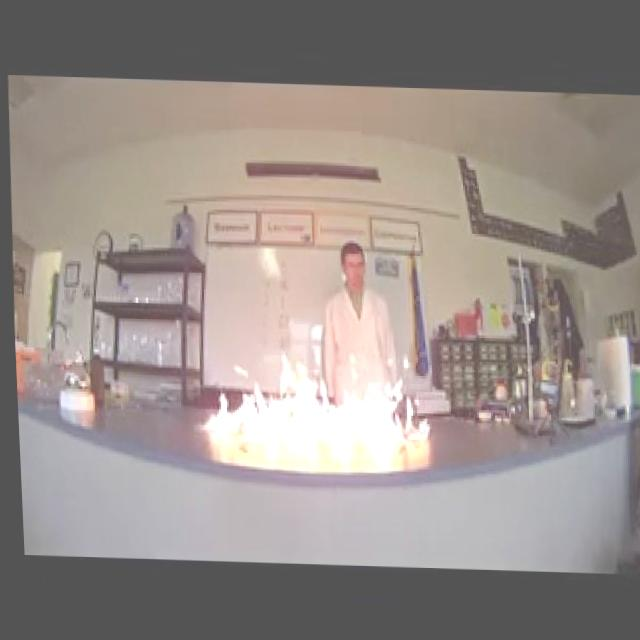Fire: (184, 338, 436, 458)
